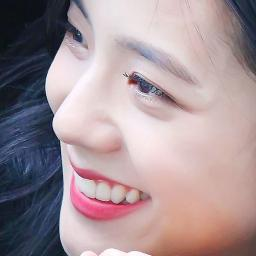face: (62, 0, 256, 256)
